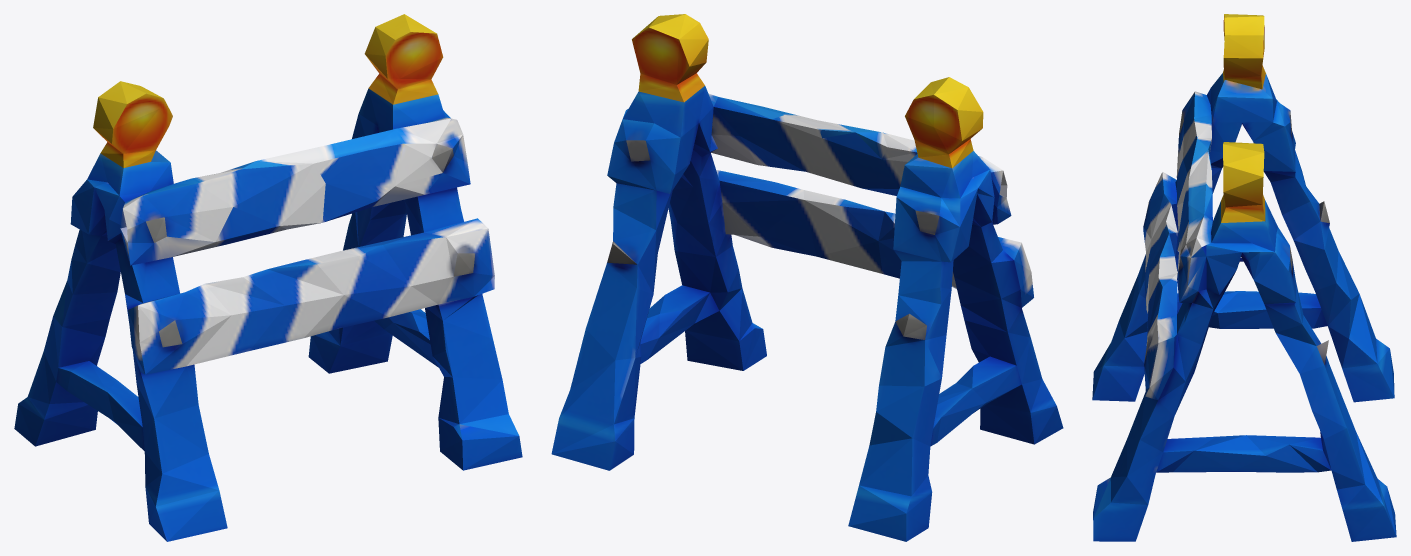
File: police_barricade.glb
3 renders of one model, left to right at view 1: azimuth 30°, elevation 25°; view 2: azimuth 150°, elevation 25°; view 3: azimuth 270°, elevation 25°, orthographic. The views are drawn at different scales.
Parts seen in each view (by area): view 1: geometry_0; view 2: geometry_0; view 3: geometry_0.
Boxes of the visible parts, box(x1,y1,x2,y2) form: geometry_0: box(14, 14, 522, 541); geometry_0: box(551, 14, 1063, 541); geometry_0: box(1092, 14, 1396, 541).
Size of the model in its own units: 0.9613 by 1 by 0.7275.
1 material, 1 textured.
